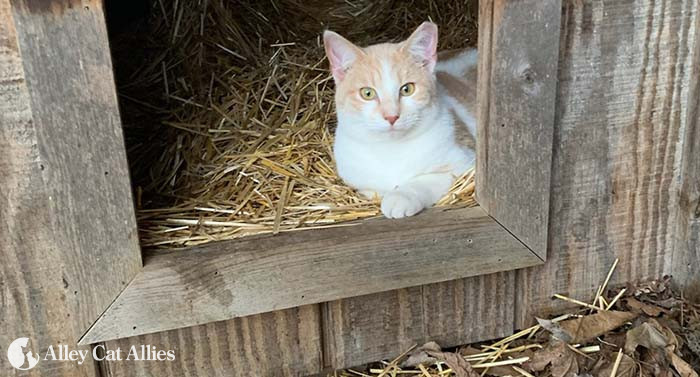cat: (319, 23, 484, 212)
